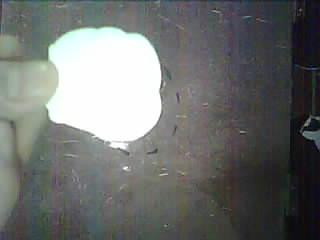paper: (47, 28, 161, 141)
